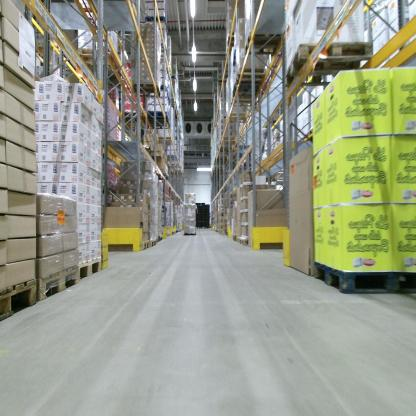pallet: (140, 15, 246, 122), (284, 39, 375, 87), (315, 258, 415, 295), (36, 260, 79, 306), (68, 47, 123, 81), (1, 277, 37, 328), (242, 27, 285, 58), (76, 253, 102, 294), (235, 65, 267, 85), (106, 238, 150, 252), (131, 79, 161, 96), (232, 85, 267, 96), (147, 109, 169, 123), (153, 133, 176, 145), (231, 95, 258, 104), (225, 31, 240, 45), (240, 236, 250, 245), (149, 239, 156, 248), (184, 231, 195, 236), (237, 236, 241, 244)
